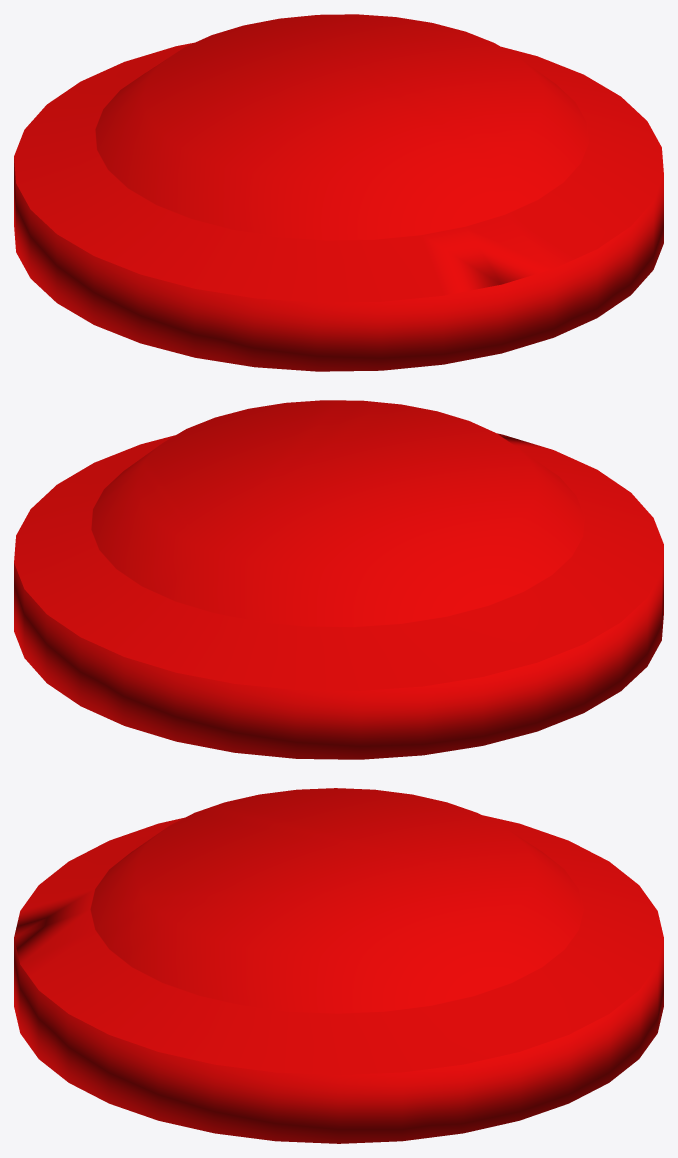
File: Red.fbx
The picture shows the model from 3 angles, top to bottom: view 1: azimuth 30°, elevation 25°; view 2: azimuth 150°, elevation 25°; view 3: azimuth 270°, elevation 25°; orthographic projection.
Parts seen in each view (by area): view 1: Cylinder; view 2: Cylinder; view 3: Cylinder.
Part boxes in pixels (x1=…): Cylinder: x1=14, y1=14, x2=663, y2=371; Cylinder: x1=14, y1=400, x2=663, y2=759; Cylinder: x1=14, y1=788, x2=663, y2=1143.
Size of the model in its own units: 200 by 46 by 200.
